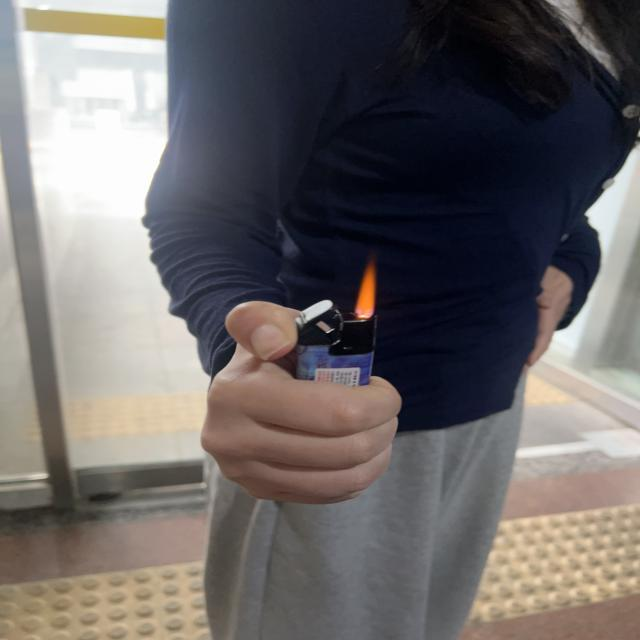fire: (353, 263, 378, 313)
